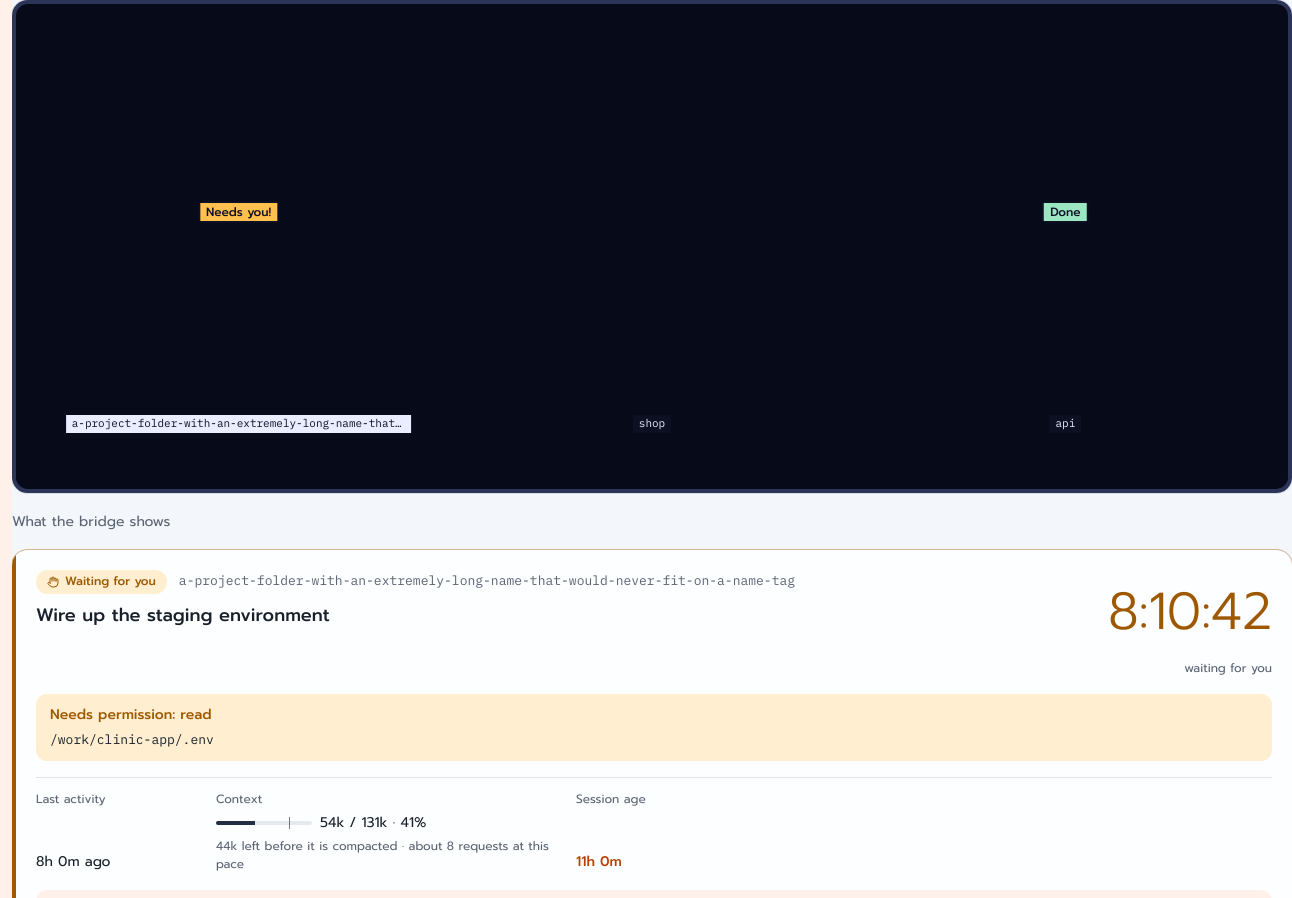
Scenario: The bridge › a long name is cut short on its tag, and given in full where it can be read
This screenshot has width=1292, height=898.
Hover over the button with aria-label "a-project-folder-with-an-extremely-long-name-that-would-neve" at (239, 212), box [64, 203, 414, 433]
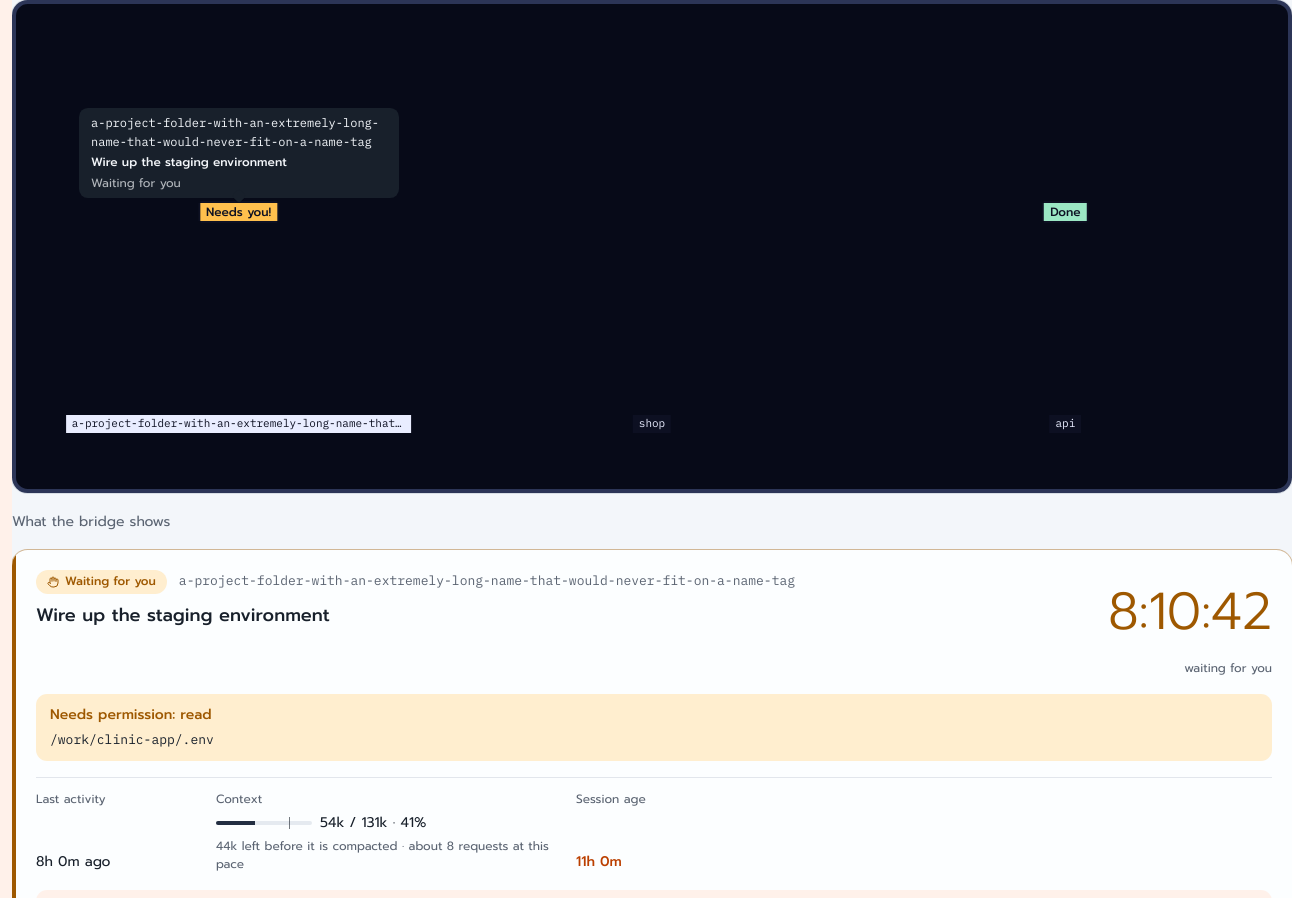
Expected: the 1st text "a-project-folder-with-an-extremely-long-name-that-would-never-fit-on-a-name-tag" is shown, [91, 114, 387, 151]
Expected: the text "Waiting for you" is shown, [91, 174, 181, 192]
